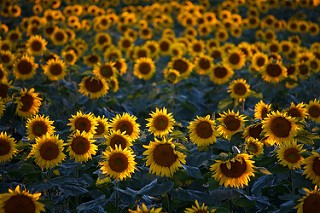flower: (207, 144, 257, 188), (141, 133, 187, 179), (260, 110, 303, 149), (99, 143, 138, 183), (29, 132, 66, 172), (186, 112, 223, 150), (0, 184, 47, 213), (64, 129, 99, 165), (144, 106, 177, 139), (215, 109, 248, 142), (275, 139, 307, 171), (300, 138, 320, 188), (109, 112, 141, 143), (13, 87, 44, 119), (78, 72, 110, 101), (24, 114, 56, 143), (66, 110, 99, 138), (13, 54, 40, 82), (261, 58, 289, 84), (0, 130, 19, 166), (226, 77, 251, 104), (207, 61, 235, 85), (42, 57, 68, 82), (167, 56, 195, 79), (220, 48, 247, 71), (25, 34, 48, 58), (131, 58, 155, 80), (193, 54, 214, 76), (250, 53, 269, 72)
